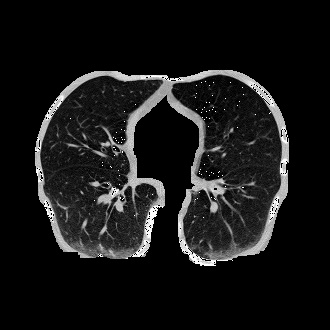PN: (97, 253, 103, 259)
